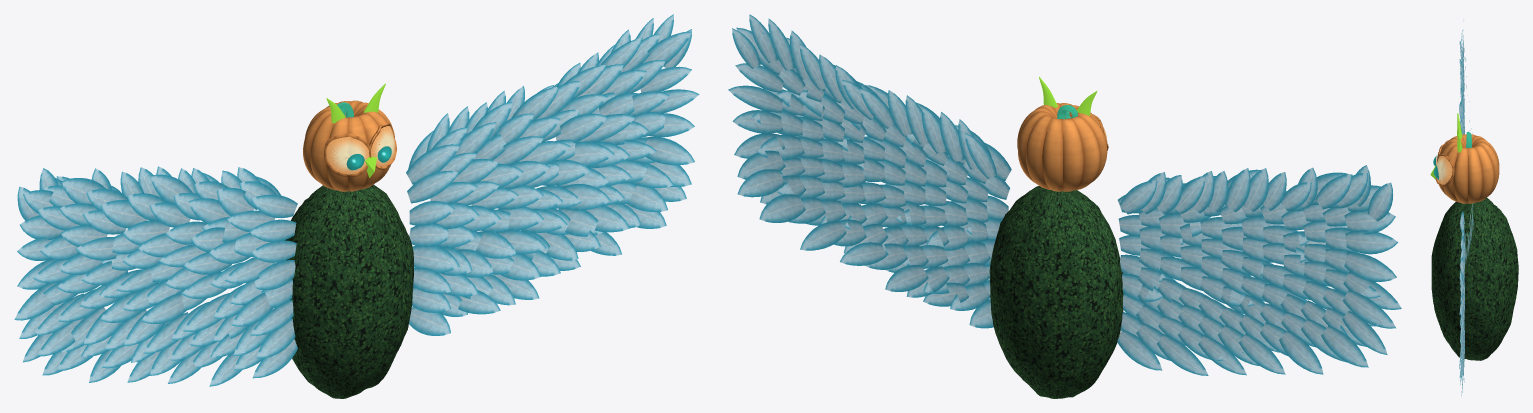
File: pumpkin-owl.glb
3 views of the same model, side by side, from view 1: azimuth 30°, elevation 25°; view 2: azimuth 150°, elevation 25°; view 3: azimuth 270°, elevation 25° (orthographic). The views are drawn at different scales.
Parts seen in each view (by area): view 1: wing_R, wing_L, owl, head; view 2: wing_L, wing_R, owl, head; view 3: owl, head, wing_R, wing_L.
Boxes of the visible parts, left/top/right/bottom form: wing_R: left=406, top=14, right=699, bottom=335; wing_L: left=14, top=166, right=297, bottom=386; owl: left=285, top=184, right=413, bottom=398; head: left=303, top=83, right=396, bottom=191; wing_L: left=1117, top=165, right=1401, bottom=375; wing_R: left=728, top=14, right=1011, bottom=328; owl: left=989, top=186, right=1123, bottom=398; head: left=1017, top=76, right=1108, bottom=191; owl: left=1431, top=198, right=1518, bottom=360; head: left=1430, top=113, right=1499, bottom=203; wing_R: left=1459, top=203, right=1473, bottom=395; wing_L: left=1459, top=19, right=1472, bottom=134.
Size of the model in its own units: 10.27 by 4.42 by 1.52.
5 materials, 5 textured.
